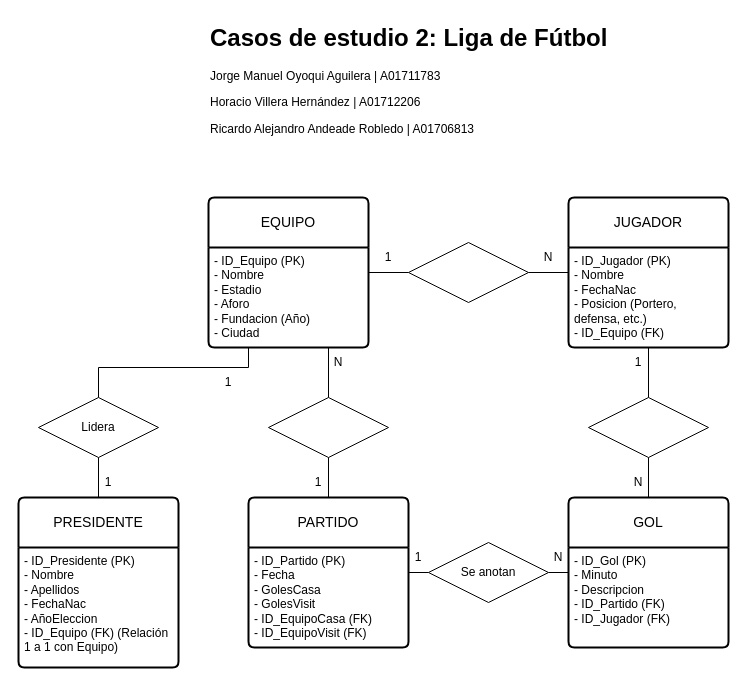
The diagram is 746 pixels wide and 686 high, and some of its shapes have lost their labels. Each missing label, with the centre of its shape:
"Juega" belongs at point (328, 427).
"Mete" belongs at point (648, 427).
"Posee" belongs at point (468, 272).
